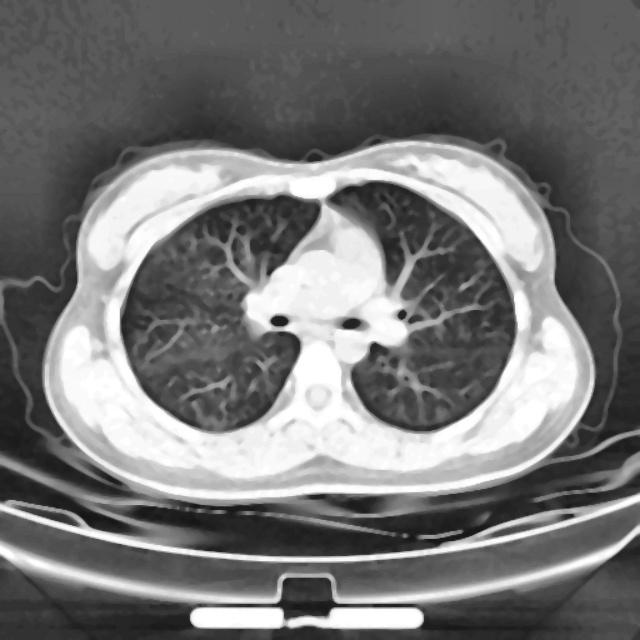covid: (40, 132, 602, 506)
